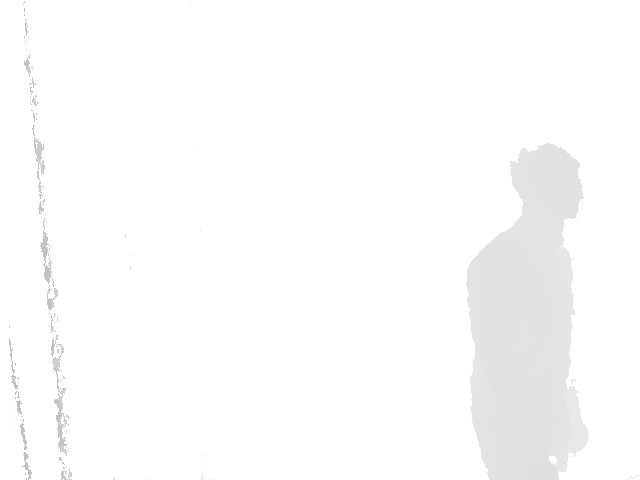head: (509, 143, 584, 222)
person: (464, 142, 591, 480)
